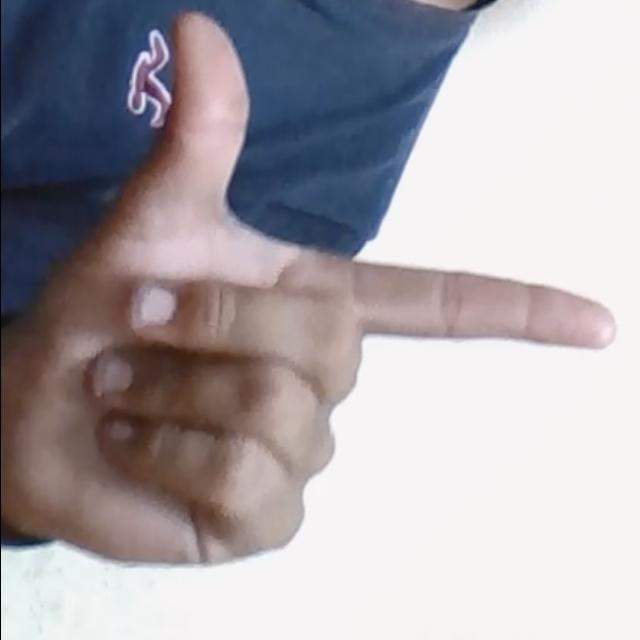LL: (27, 10, 621, 576)
